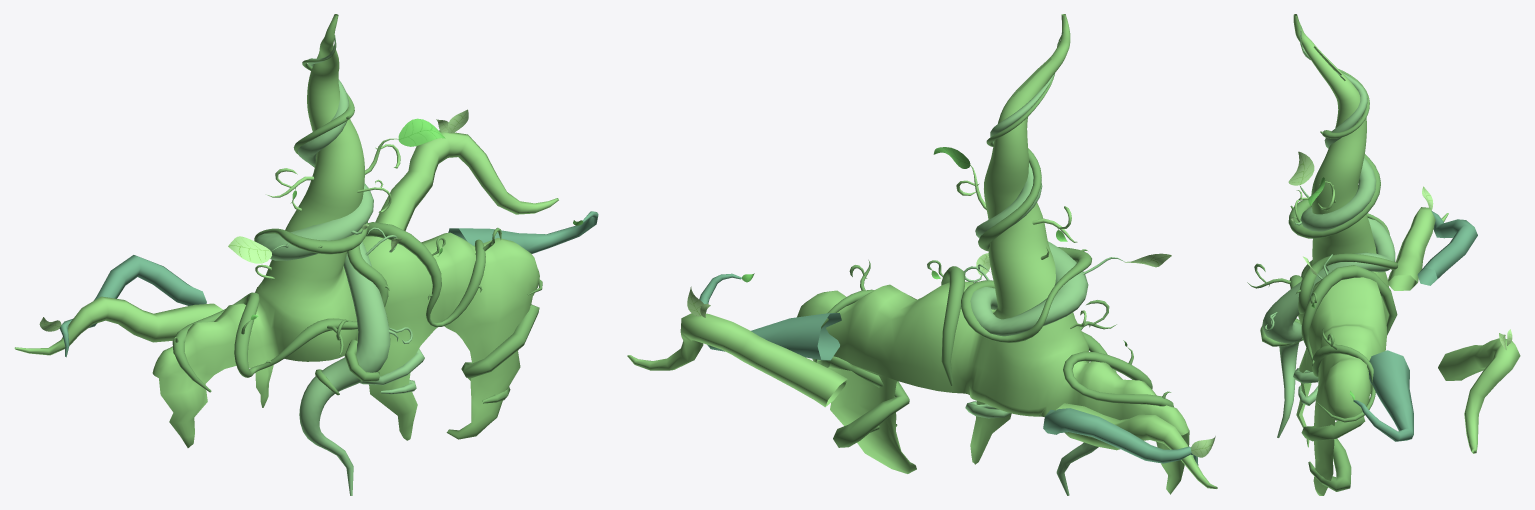
The model's file is Peatree2.0.fbx.
The picture shows the model from 3 angles, left to right: view 1: azimuth 30°, elevation 25°; view 2: azimuth 150°, elevation 25°; view 3: azimuth 270°, elevation 25°; orthographic projection. The views are drawn at different scales.
Parts seen in each view (by area): view 1: root.002, accessory stem.002, main stem.002, bake.002, mini.002, lightLF.002, deepLF.002; view 2: root.002, accessory stem.002, main stem.002, bake.002, mini.002, lightLF.002; view 3: root.002, accessory stem.002, main stem.002, bake.002, mini.002, lightLF.002.
Boxes of the visible parts, x1=… form: root.002: x1=14, y1=14, x2=558, y2=447; accessory stem.002: x1=172, y1=44, x2=542, y2=403; main stem.002: x1=255, y1=35, x2=424, y2=495; bake.002: x1=59, y1=211, x2=598, y2=357; mini.002: x1=174, y1=115, x2=501, y2=363; lightLF.002: x1=39, y1=109, x2=468, y2=331; deepLF.002: x1=251, y1=118, x2=583, y2=319; root.002: x1=627, y1=14, x2=1217, y2=494; accessory stem.002: x1=812, y1=36, x2=1173, y2=447; main stem.002: x1=965, y1=32, x2=1098, y2=495; bake.002: x1=699, y1=273, x2=1198, y2=465; mini.002: x1=849, y1=164, x2=1171, y2=398; lightLF.002: x1=687, y1=253, x2=1215, y2=457; root.002: x1=1293, y1=14, x2=1520, y2=495; accessory stem.002: x1=1260, y1=31, x2=1397, y2=491; main stem.002: x1=1262, y1=26, x2=1395, y2=437; bake.002: x1=1353, y1=211, x2=1477, y2=441; mini.002: x1=1247, y1=131, x2=1337, y2=365; lightLF.002: x1=1288, y1=151, x2=1512, y2=349.
Bounding box in the file's own units: 573 × 466 × 275.
